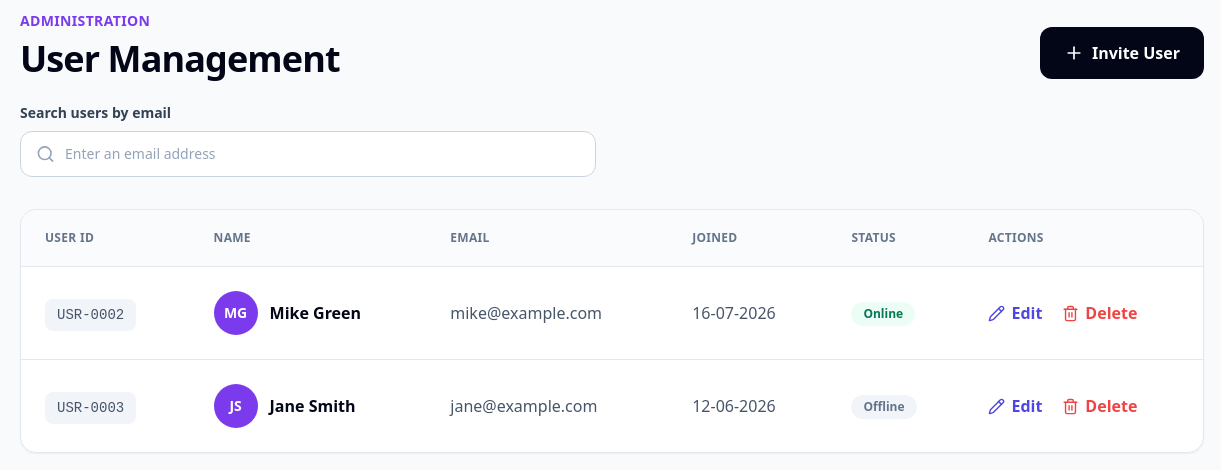
Test: clears the email search and restores the user table
Expected: the text "mike@example.com" is shown, [426,266,668,360]
Type "jane" into the search field labelled "Search users by email" at (308, 154), box [20,131,596,177]
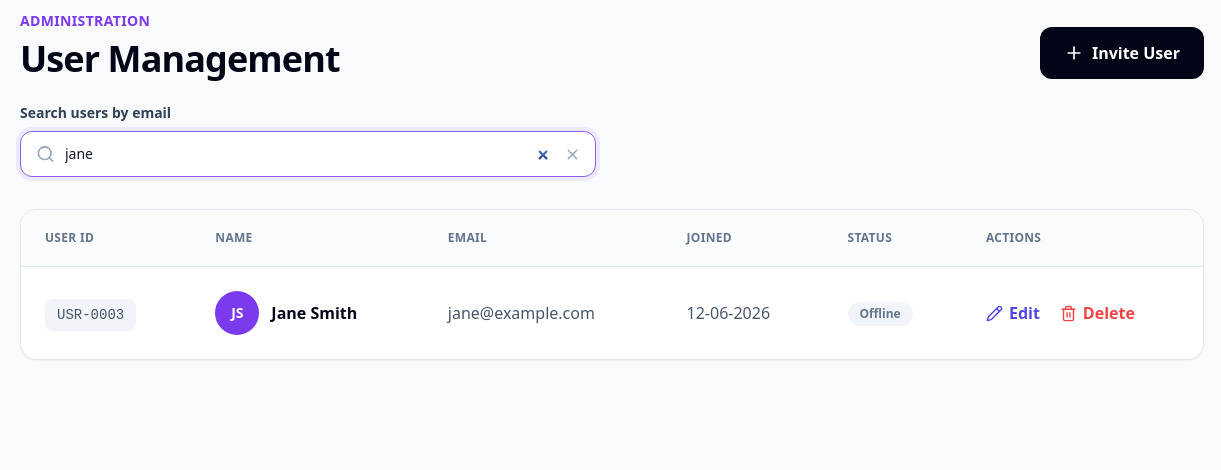
Now the text "mike@example.com" is gone
Click the button named "clear email search" at (572, 154), box [556,138,588,170]
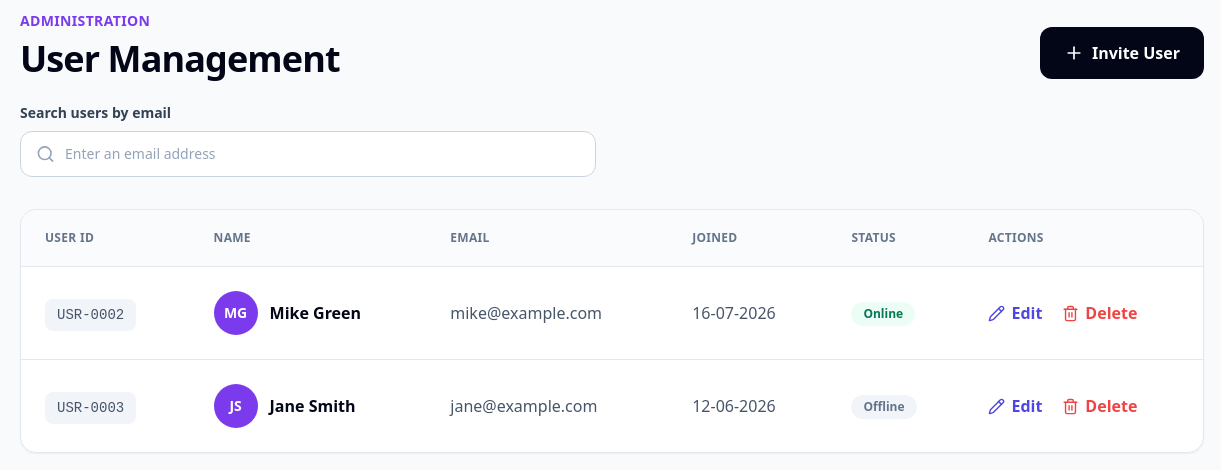
Expected: the text "jane@example.com" is shown, [426,360,668,452]
Now the text "mike@example.com" is shown, box [426,266,668,360]
